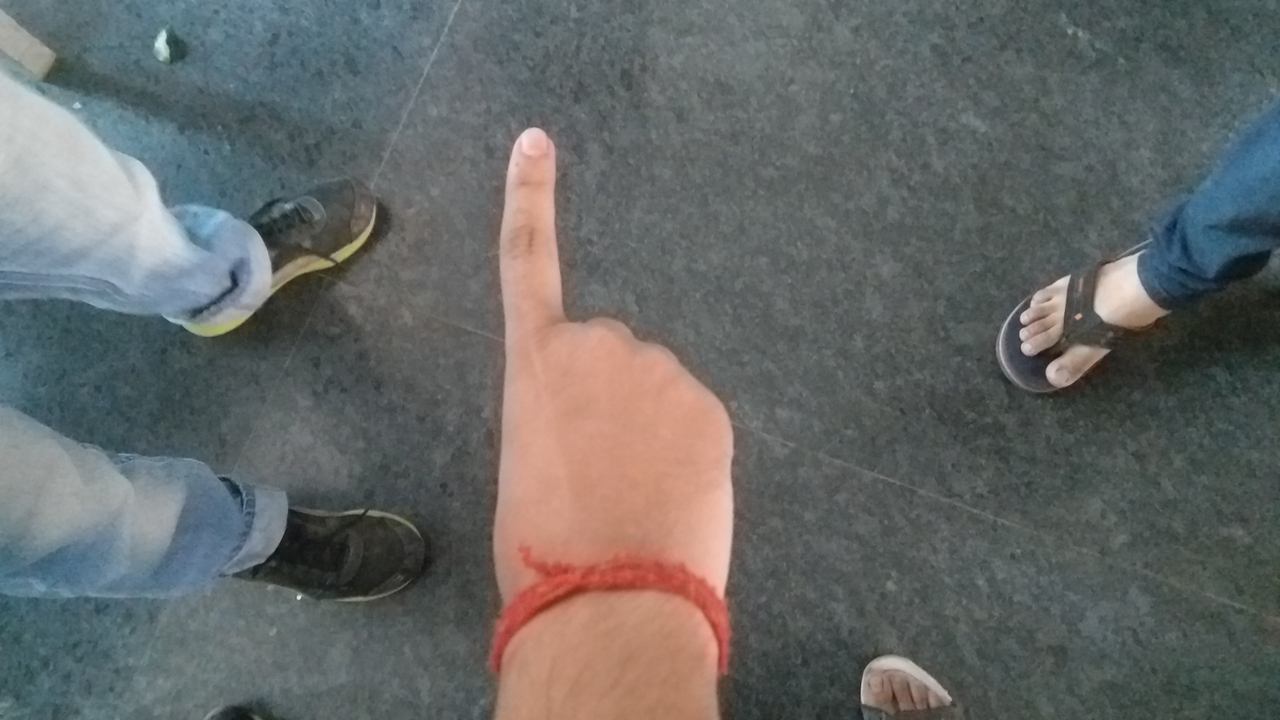fingertip: (498, 122, 562, 174)
